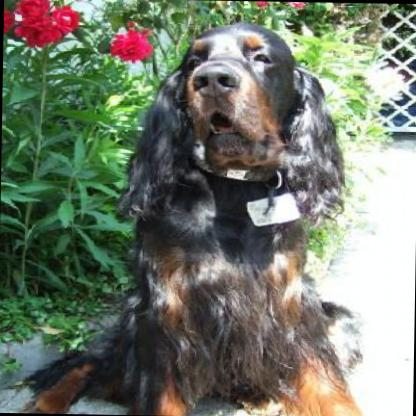Gordon_setter: (13, 14, 368, 416)
